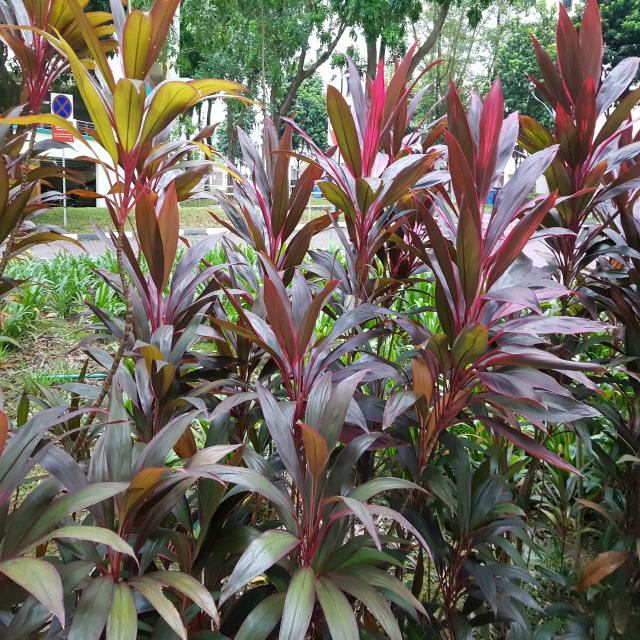Ti: (204, 271, 423, 640), (425, 31, 601, 482), (283, 22, 442, 278), (494, 9, 640, 281), (51, 0, 211, 230)
